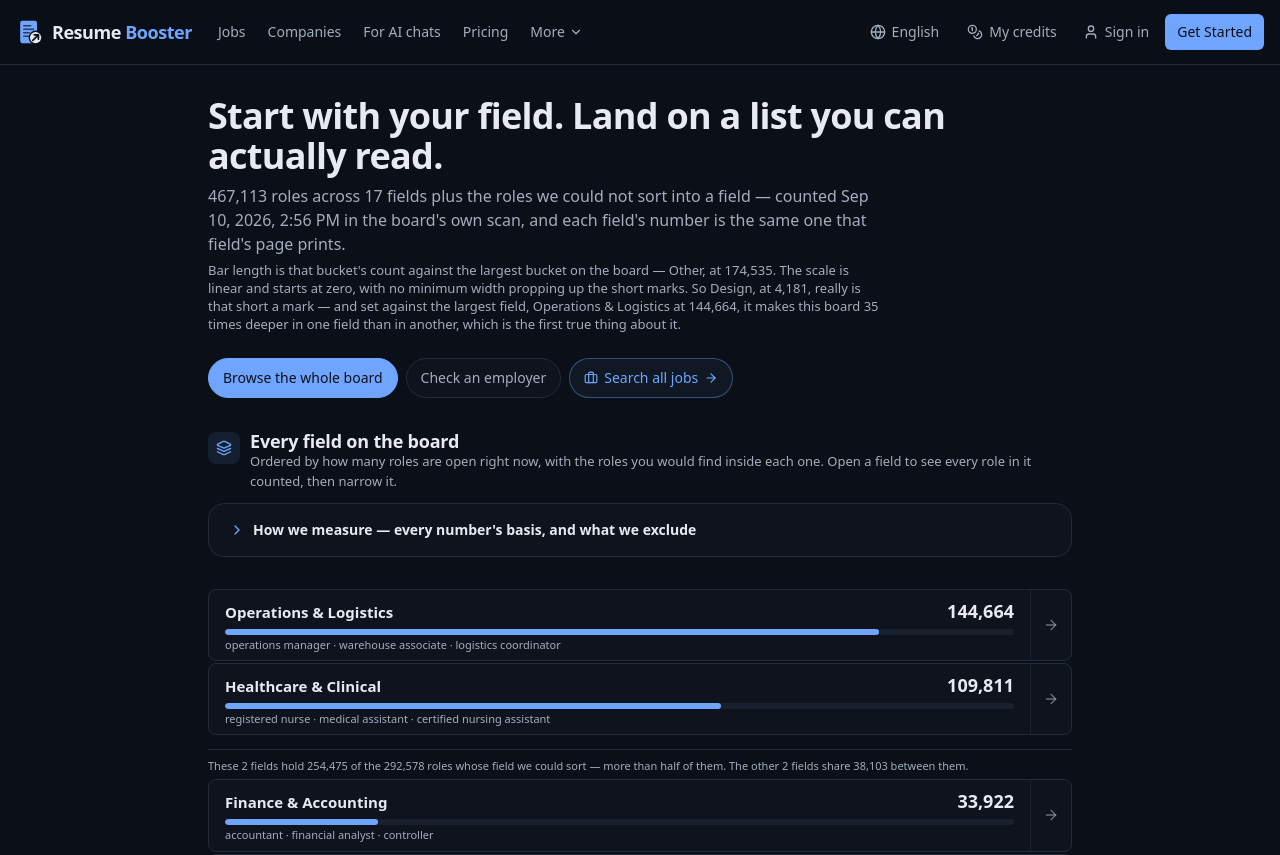
4. the grid's own n reaches no tile and no sentence › fed n = 999,999 for finance, the page prints it nowhere and the tile keeps the facet's count
Click the button that starts with "Finance & Accounting". click: {"x": 306, "y": 802}
box: [209, 780, 1030, 850]
(page scrolled)
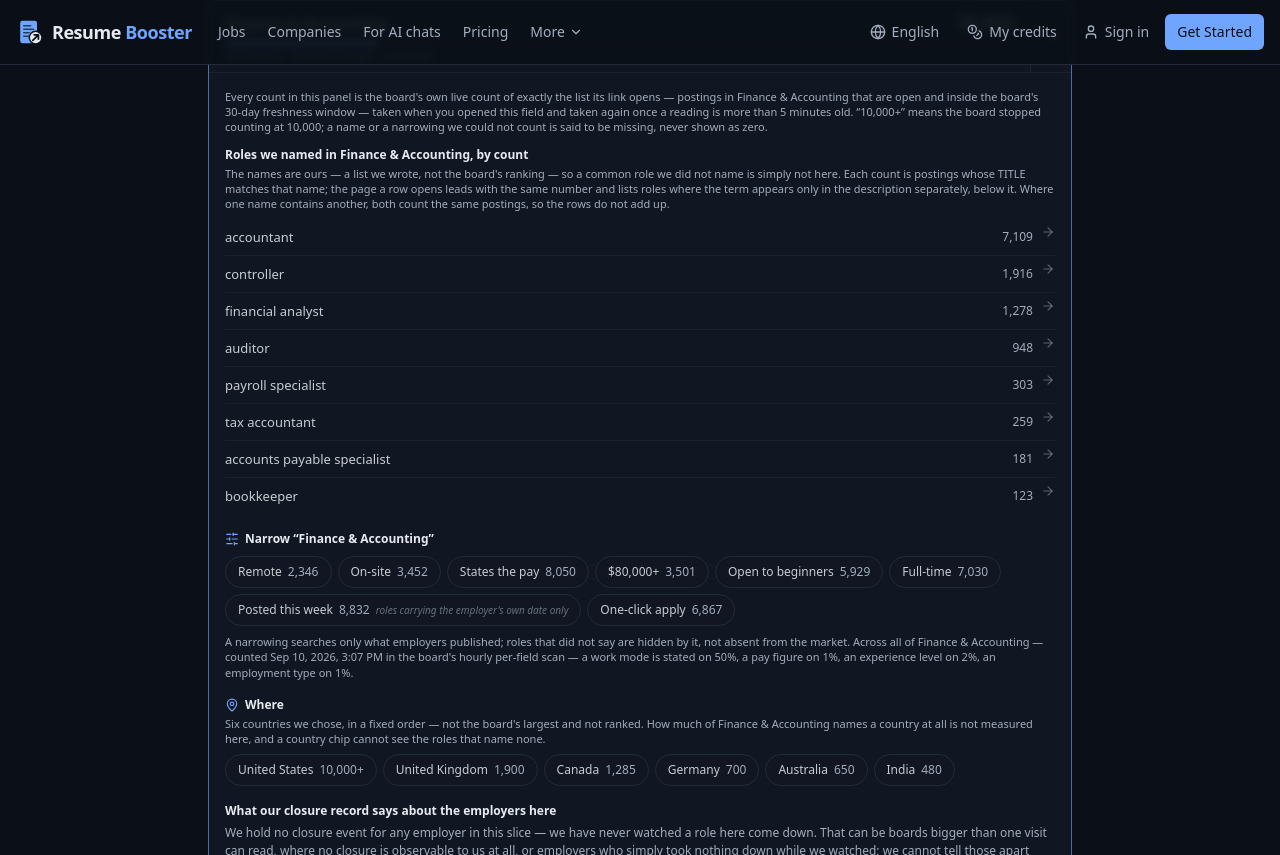
Now the text "inside the board's 30-day freshness window" is shown, box [225, 88, 1041, 134]
Now the text "more than 5 minutes old" is shown, box [225, 88, 1041, 134]
Now the text "“10,000+” means the board stopped counting at 10,000" is shown, box [225, 88, 1041, 134]
